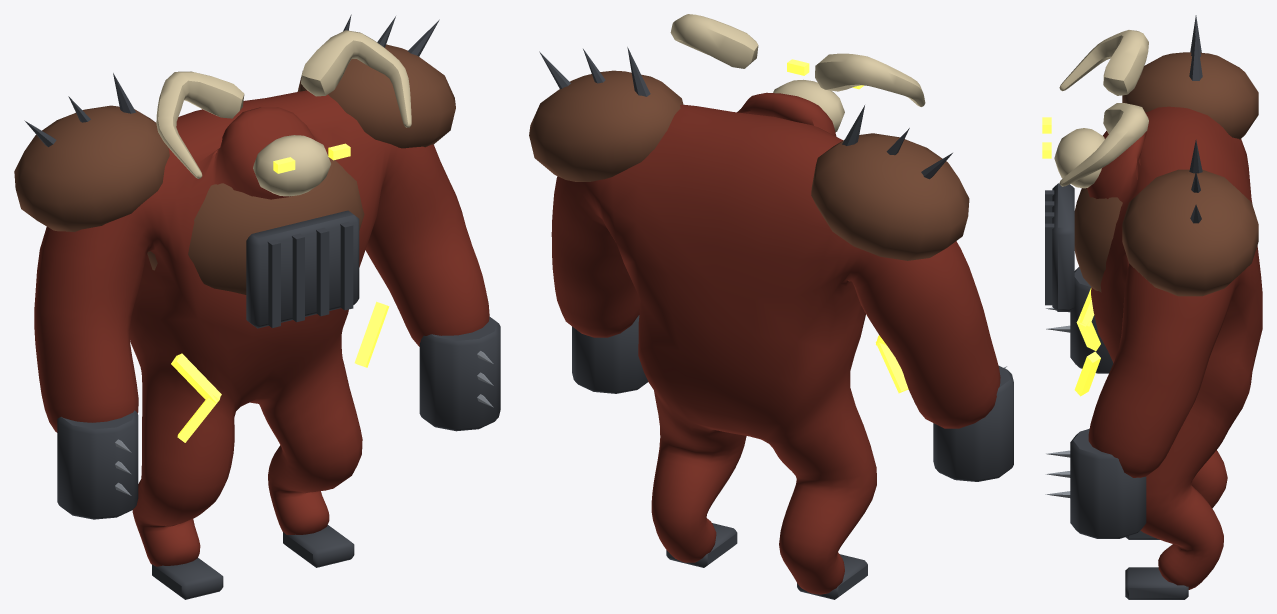
File: DM_Baron.fbx
3 views of the same model, side by side, from view 1: azimuth 30°, elevation 25°; view 2: azimuth 150°, elevation 25°; view 3: azimuth 270°, elevation 25° (orthographic). The views are drawn at different scales.
Parts seen in each view (by area): view 1: DM_Baron; view 2: DM_Baron; view 3: DM_Baron.
Part boxes in pixels (x1,y1,x2,y2): DM_Baron: (14,14,500,599); DM_Baron: (529,14,1013,599); DM_Baron: (1042,15,1262,599).
Bounding box in the file's own units: 2.51 × 2.91 × 1.18.
